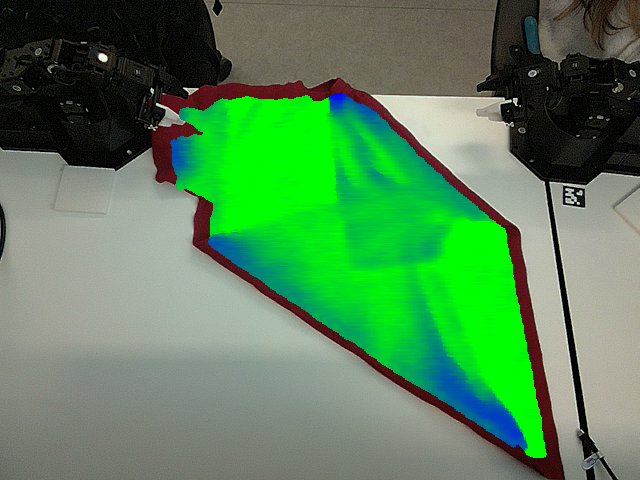V: (333, 238, 394, 282)
